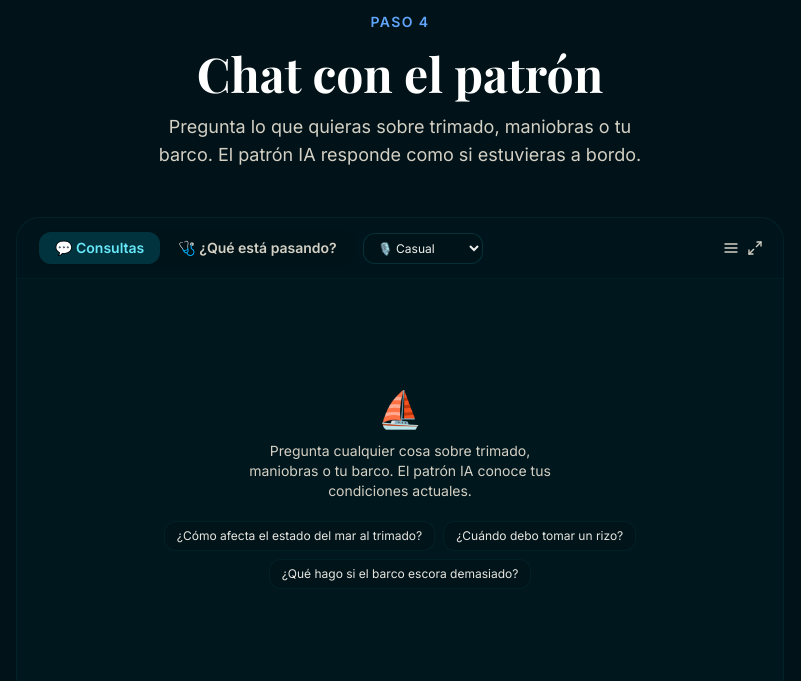
Test: ChatPanel › switches to diagnostic mode and shows its banner
Step 1. Click the button "🩺 ¿Qué está pasando?" → x=258, y=248, box [162, 232, 353, 264]
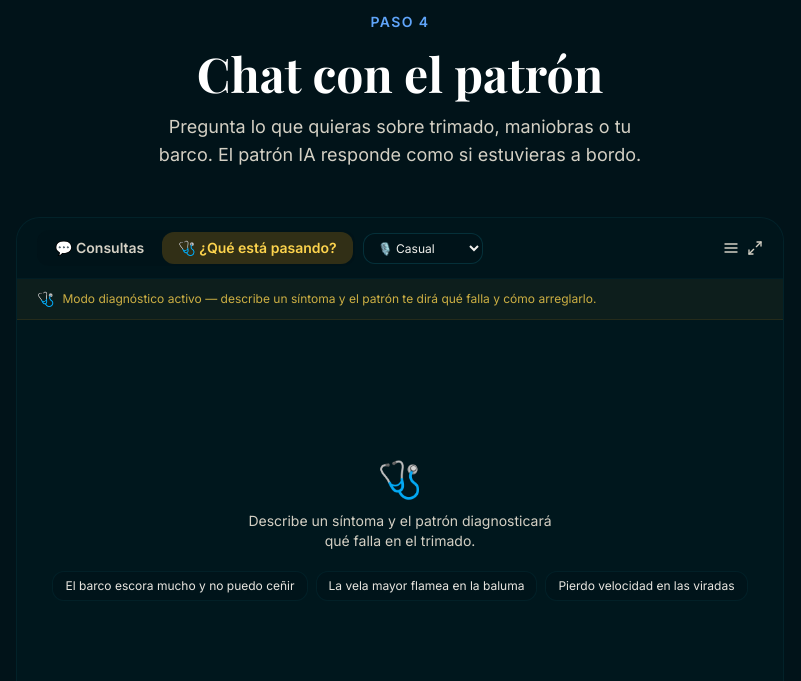
expect the text "Modo diagnóstico activo" is shown: met, box [62, 291, 596, 306]
